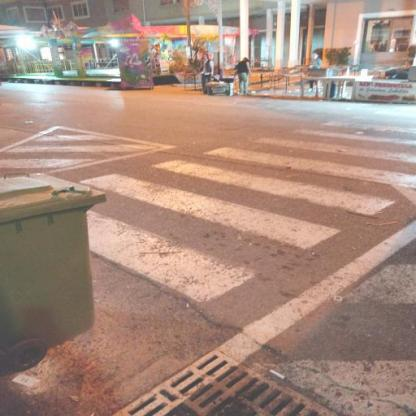crosswalk: (145, 137, 416, 221)
